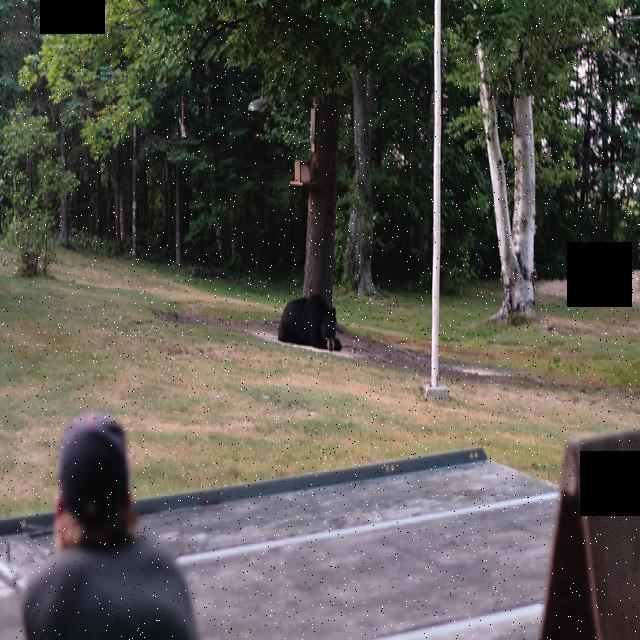Bear: (274, 289, 344, 352)
